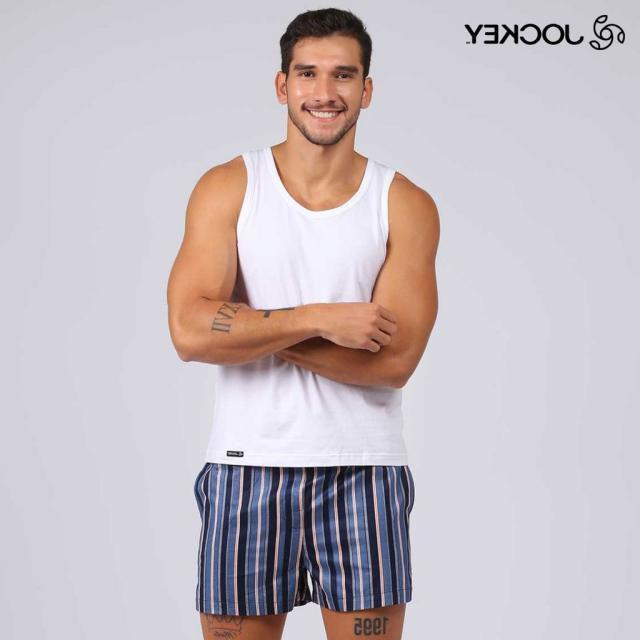Shorts: (189, 462, 417, 617)
vest: (197, 139, 413, 467)
